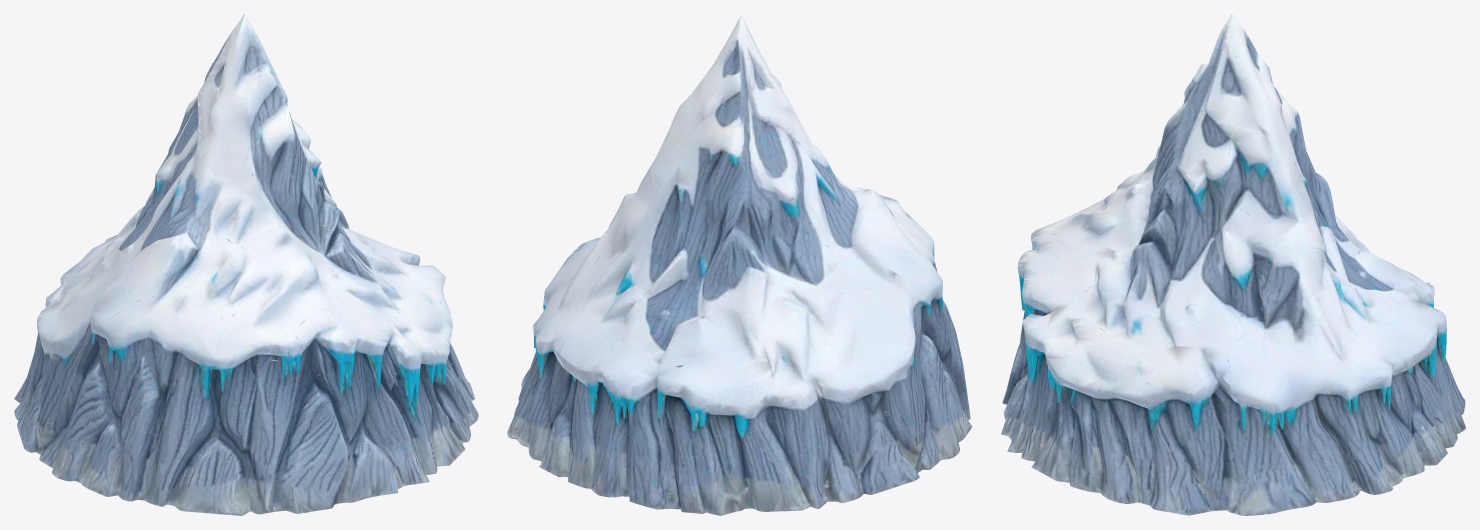
Rendered from glacial_peak.glb.
The picture shows the model from 3 angles, left to right: view 1: azimuth 30°, elevation 25°; view 2: azimuth 150°, elevation 25°; view 3: azimuth 270°, elevation 25°; orthographic projection.
Bounding box in the file's own units: 1.9 × 1.79 × 1.88.
1 material, 1 textured.
